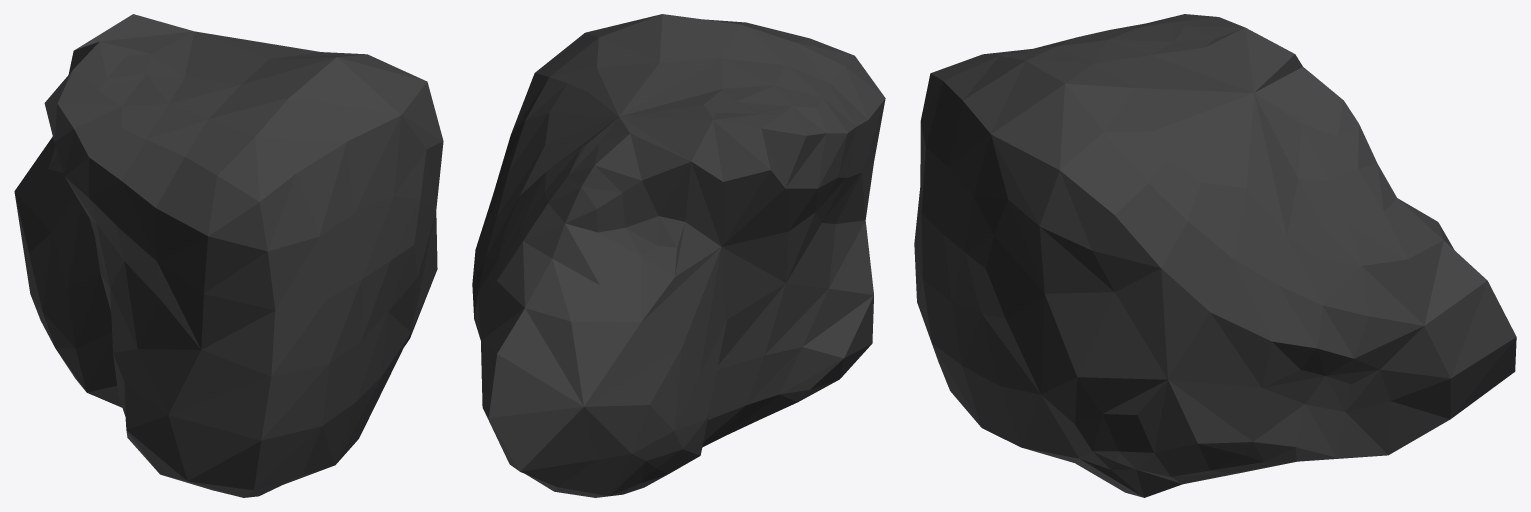
The model's file is 4th_carpal_L.glb.
3 renders of one model, left to right at view 1: azimuth 30°, elevation 25°; view 2: azimuth 150°, elevation 25°; view 3: azimuth 270°, elevation 25°, orthographic. The views are drawn at different scales.
Parts seen in each view (by area): view 1: 4th_carpal_L; view 2: 4th_carpal_L; view 3: 4th_carpal_L.
Part boxes in pixels (x1=…): 4th_carpal_L: x1=14, y1=14, x2=443, y2=497; 4th_carpal_L: x1=472, y1=14, x2=885, y2=497; 4th_carpal_L: x1=914, y1=14, x2=1516, y2=497.
Size of the model in its own units: 0.0348 by 0.0397 by 0.0527.
Materials: 1 (1 with a texture image).
